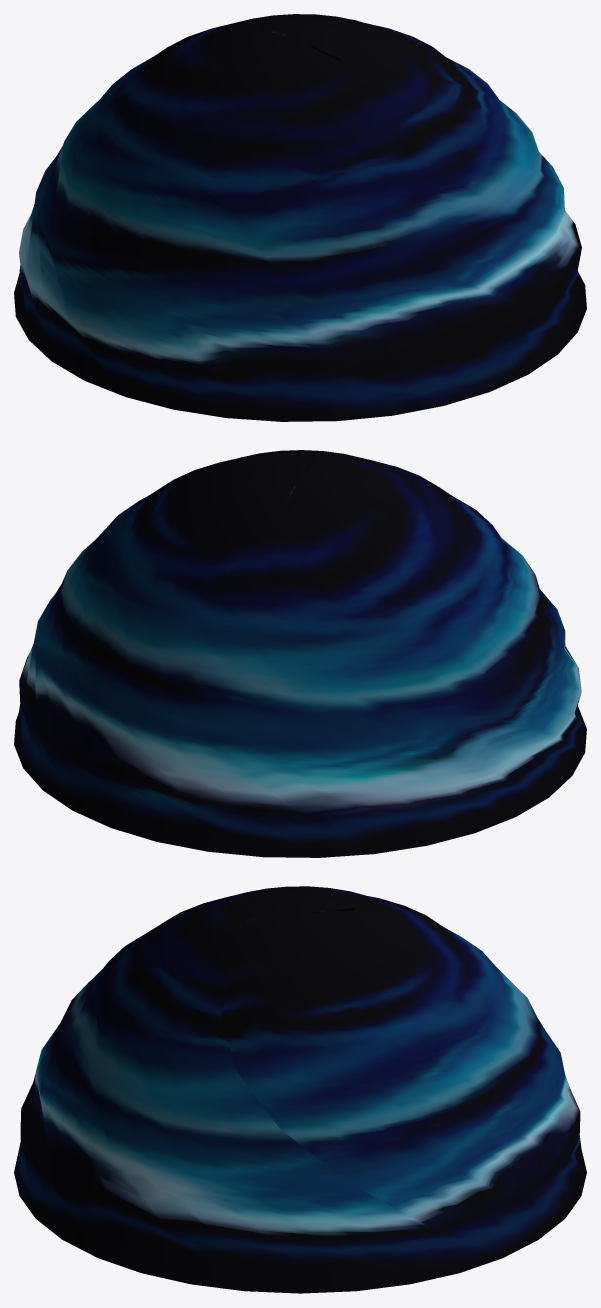
The model's file is effect_tieren_atk05_hit_donghua.fbx.
The picture shows the model from 3 angles, top to bottom: view 1: azimuth 30°, elevation 25°; view 2: azimuth 150°, elevation 25°; view 3: azimuth 270°, elevation 25°; orthographic projection.
Parts seen in each view (by area): view 1: effect_renzhe_sphere_mo (1); view 2: effect_renzhe_sphere_mo (1); view 3: effect_renzhe_sphere_mo (1).
Part boxes in pixels (bbox=[...]): effect_renzhe_sphere_mo (1): bbox=[14, 14, 586, 421]; effect_renzhe_sphere_mo (1): bbox=[14, 450, 586, 857]; effect_renzhe_sphere_mo (1): bbox=[14, 886, 586, 1293].
Bounding box in the file's own units: 5.06 × 2.53 × 5.06.
